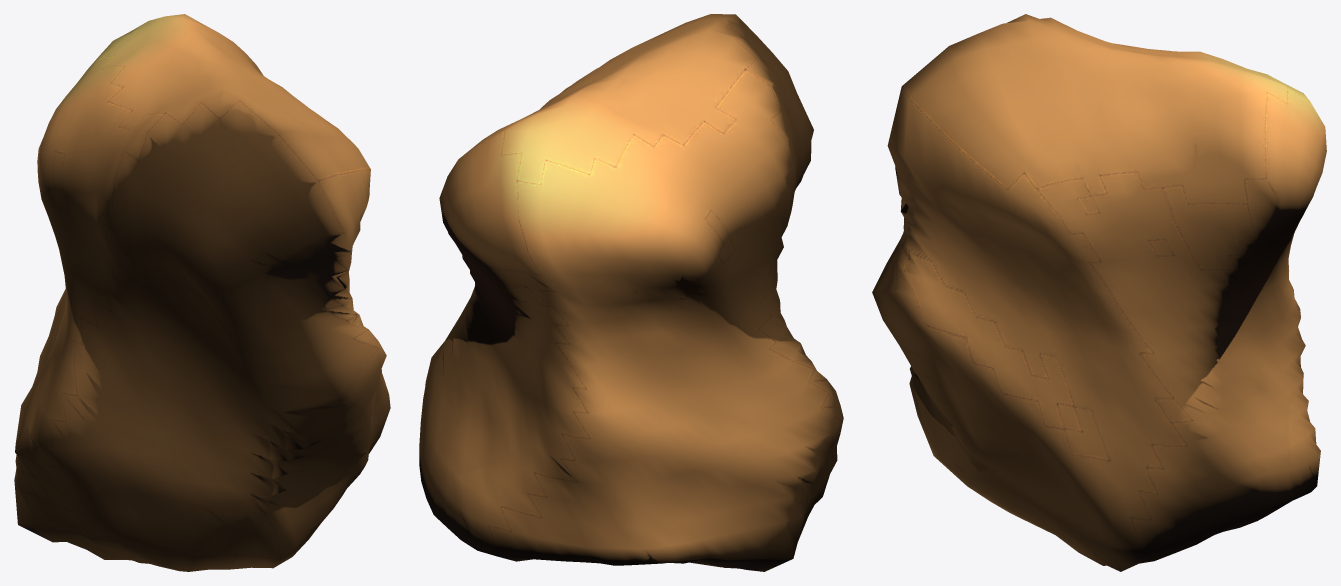
The model's file is GameAsteroid 1.fbx.
3 renders of one model, left to right at view 1: azimuth 30°, elevation 25°; view 2: azimuth 150°, elevation 25°; view 3: azimuth 270°, elevation 25°, orthographic. The views are drawn at different scales.
Visible parts, largest first — view 1: rock; view 2: rock; view 3: rock.
Boxes of the visible parts, x1,y1,x2,y2 form: rock: [14, 14, 390, 571]; rock: [419, 14, 843, 571]; rock: [872, 14, 1326, 571].
Bounding box in the file's own units: 102 × 134 × 110.
1 material, 1 textured.
